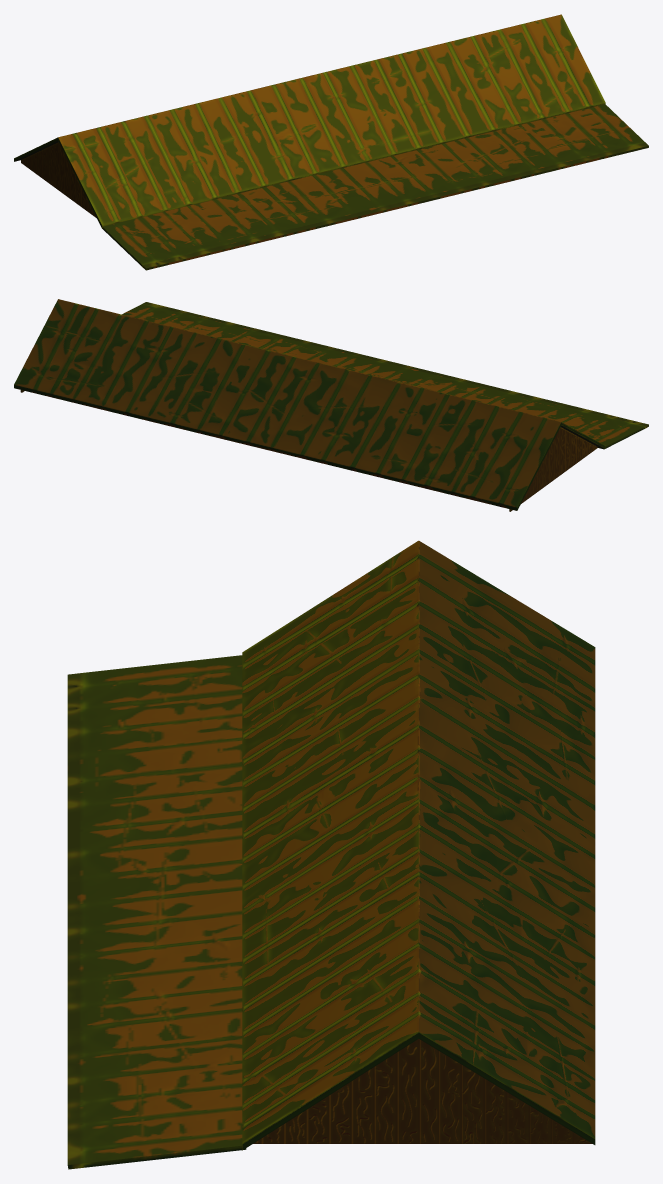
Rendered from HouseRoof.fbx.
3 renders of one model, top to bottom at view 1: azimuth 30°, elevation 25°; view 2: azimuth 150°, elevation 25°; view 3: azimuth 270°, elevation 25°, orthographic. The views are drawn at different scales.
Visible parts, largest first — view 1: Roof Sides_LOW; view 2: Roof Sides_LOW; view 3: Roof Sides_LOW.
Part boxes in pixels (x1,y1,x2,y2): Roof Sides_LOW: (14,14,648,270); Roof Sides_LOW: (14,299,648,511); Roof Sides_LOW: (67,540,595,1169).
Size of the model in its own units: 2055 by 270 by 933.
3 materials, 3 textured.
